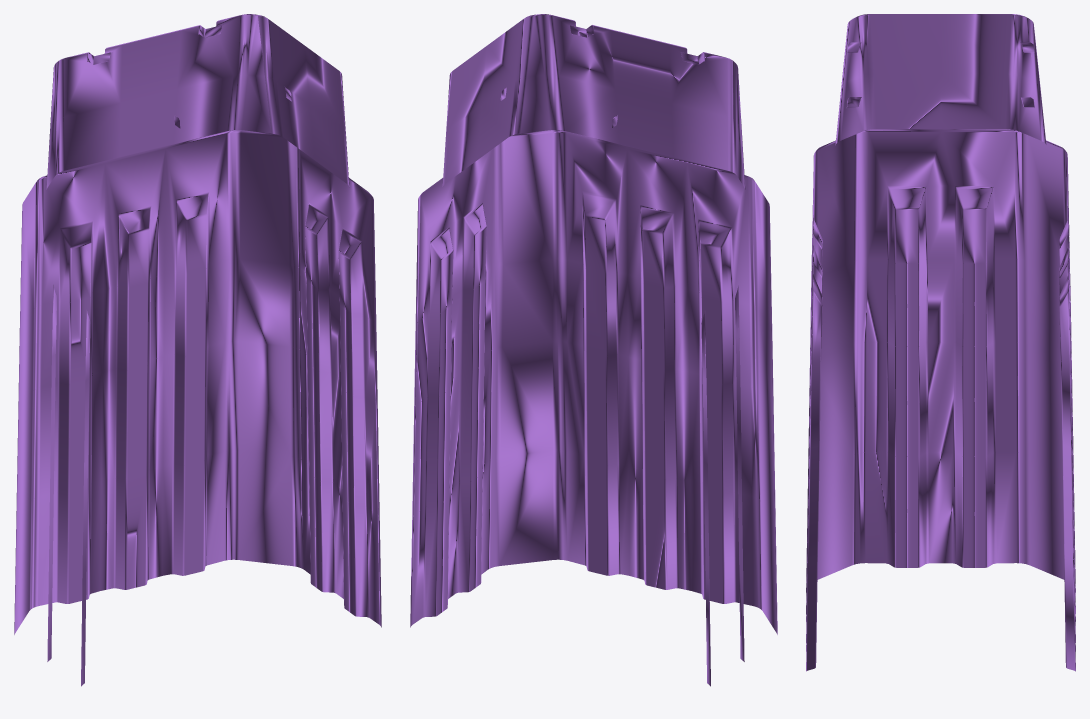
File: drop_rail_building_foundation_a.glb
The picture shows the model from 3 angles, left to right: view 1: azimuth 30°, elevation 25°; view 2: azimuth 150°, elevation 25°; view 3: azimuth 270°, elevation 25°; orthographic projection.
Size of the model in its own units: 24.86 by 46.58 by 20.02.
